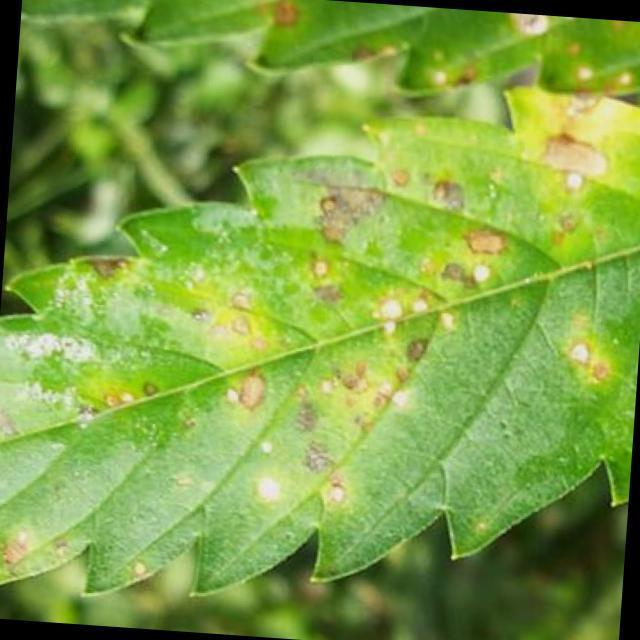Septoria: (28, 99, 640, 535)
